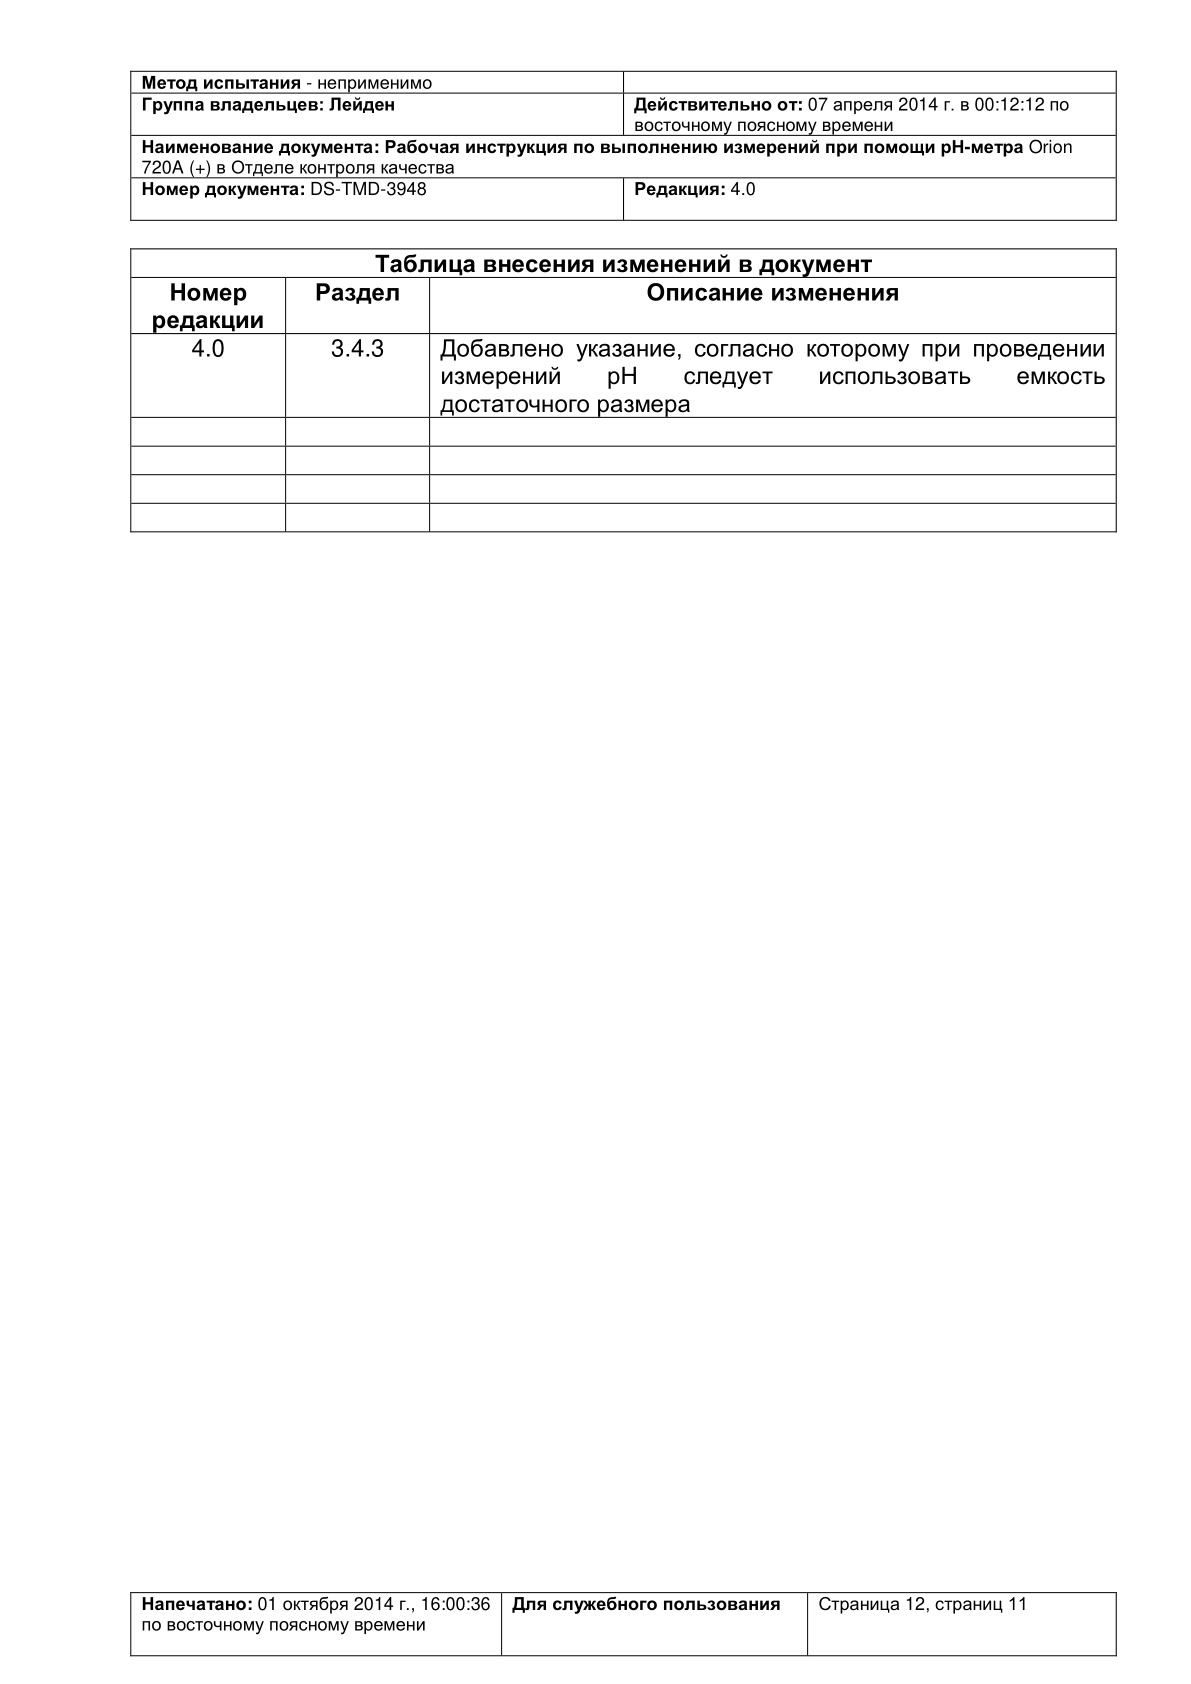full_lined: (130, 1591, 1118, 1657)
merged_cells: (130, 246, 1118, 533), (129, 70, 1118, 222)
